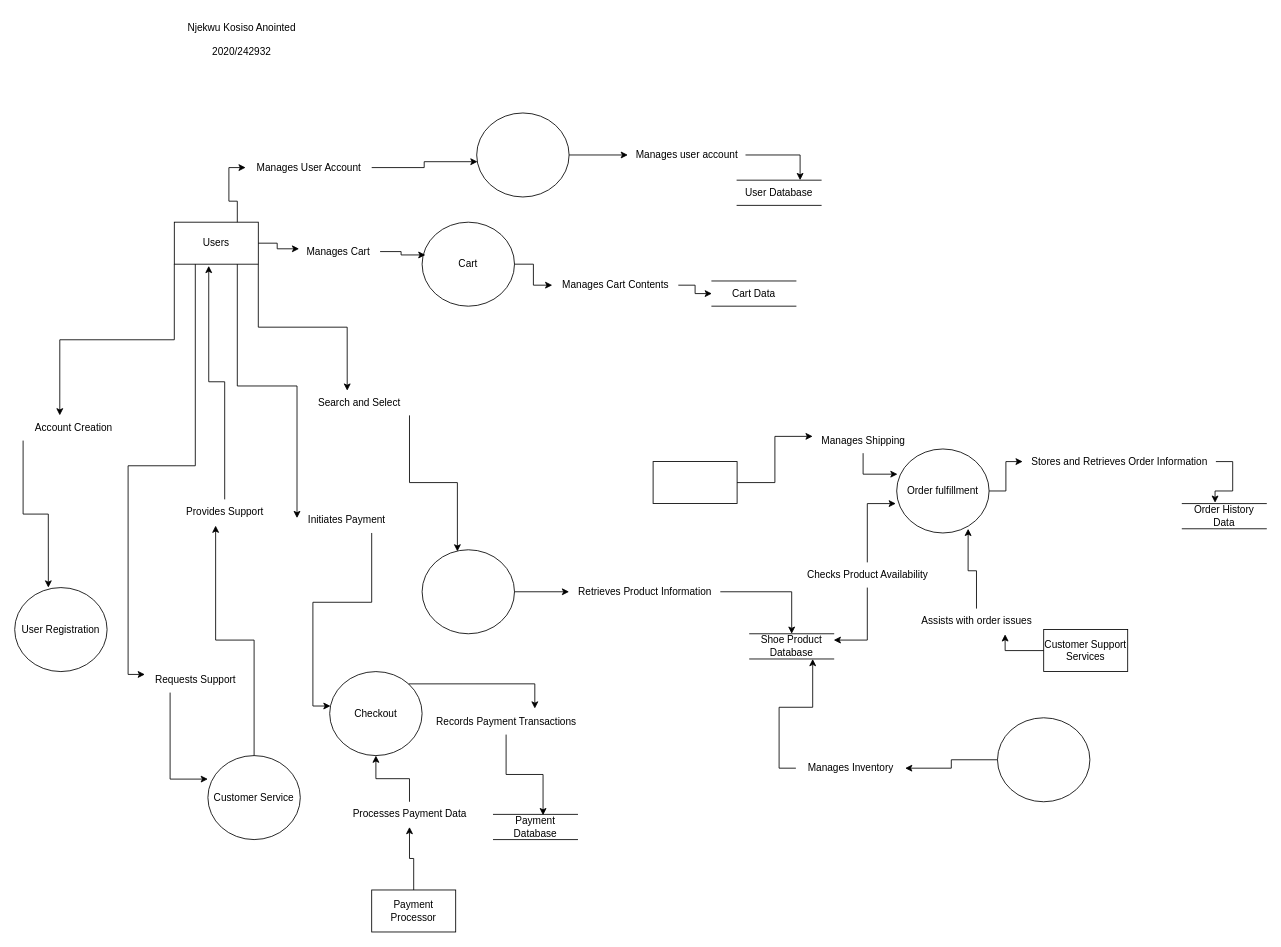
The diagram is 1281 pixels wide and 947 high, and some of its shapes have lost their labels. Here are the shapes that lost their labels. From the top down, the centre of each, then its label:
pixel 522 154: Account Management
pixel 694 482: Shipping and Logistics
pixel 467 591: Browse and Select Shoes
pixel 1043 759: Inventory Management
